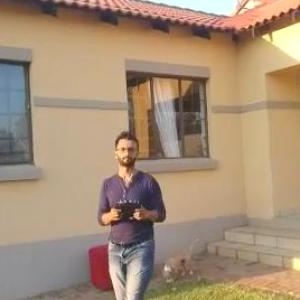follow: (91, 125, 170, 299)
null: (161, 228, 205, 284)
